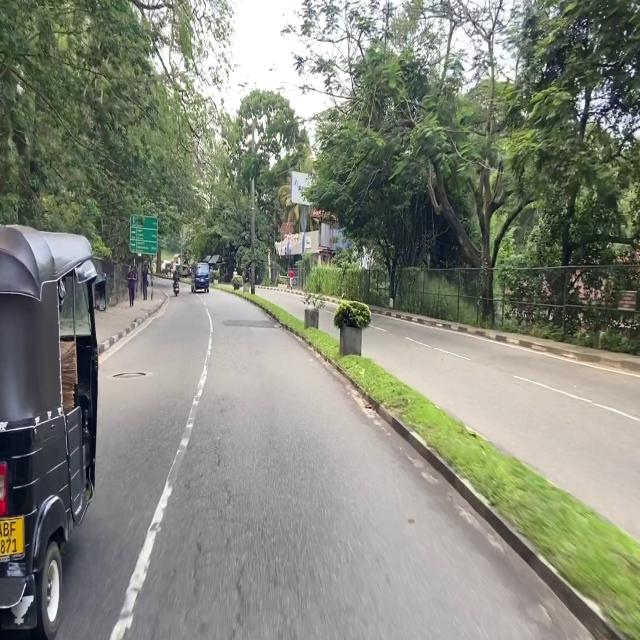bus: (174, 254, 188, 277)
motorcycle: (174, 281, 179, 296)
person: (128, 266, 137, 307), (142, 261, 148, 300), (289, 269, 294, 290), (173, 269, 179, 282)
three wheeler: (0, 225, 106, 639), (165, 263, 172, 275)
van: (191, 263, 210, 292)
